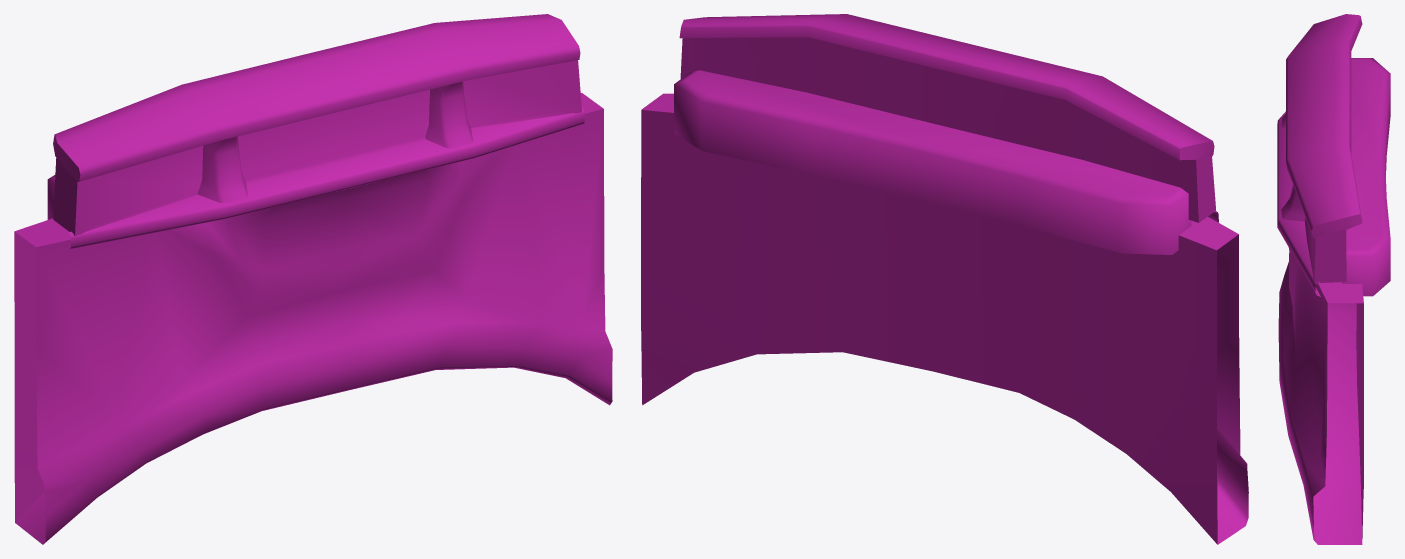
The model's file is SM_Arch_01_Chopped.FBX.
3 renders of one model, left to right at view 1: azimuth 30°, elevation 25°; view 2: azimuth 150°, elevation 25°; view 3: azimuth 270°, elevation 25°, orthographic. The views are drawn at different scales.
Visible parts, largest first — view 1: SM_Arch001; view 2: SM_Arch001; view 3: SM_Arch001.
Part boxes in pixels (left/top/right/bottom): SM_Arch001: left=14, top=14, right=612, bottom=544; SM_Arch001: left=641, top=14, right=1248, bottom=544; SM_Arch001: left=1277, top=14, right=1390, bottom=544.
Size of the model in its own units: 508 by 349 by 107.
